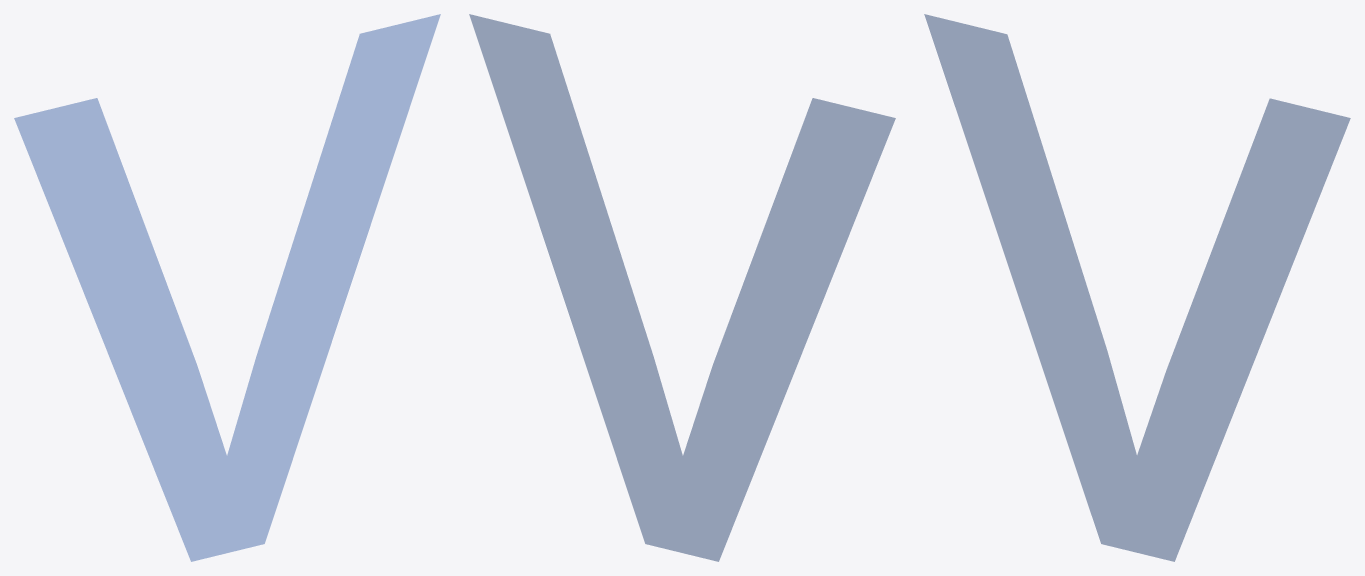
The model's file is original-54.obj.
3 renders of one model, left to right at view 1: azimuth 30°, elevation 25°; view 2: azimuth 150°, elevation 25°; view 3: azimuth 330°, elevation 25°, orthographic.
Visible parts, largest first — view 1: mesh44/mesh44-geometry#mesh44-geometry; view 2: mesh44/mesh44-geometry#mesh44-geometry; view 3: mesh44/mesh44-geometry#mesh44-geometry.
Part boxes in pixels (x1,y1,x2,y2): mesh44/mesh44-geometry#mesh44-geometry: [14, 14, 440, 561]; mesh44/mesh44-geometry#mesh44-geometry: [469, 14, 895, 561]; mesh44/mesh44-geometry#mesh44-geometry: [924, 14, 1350, 561].
Size of the model in its own units: 0.0228 by 0.0248 by 0.
